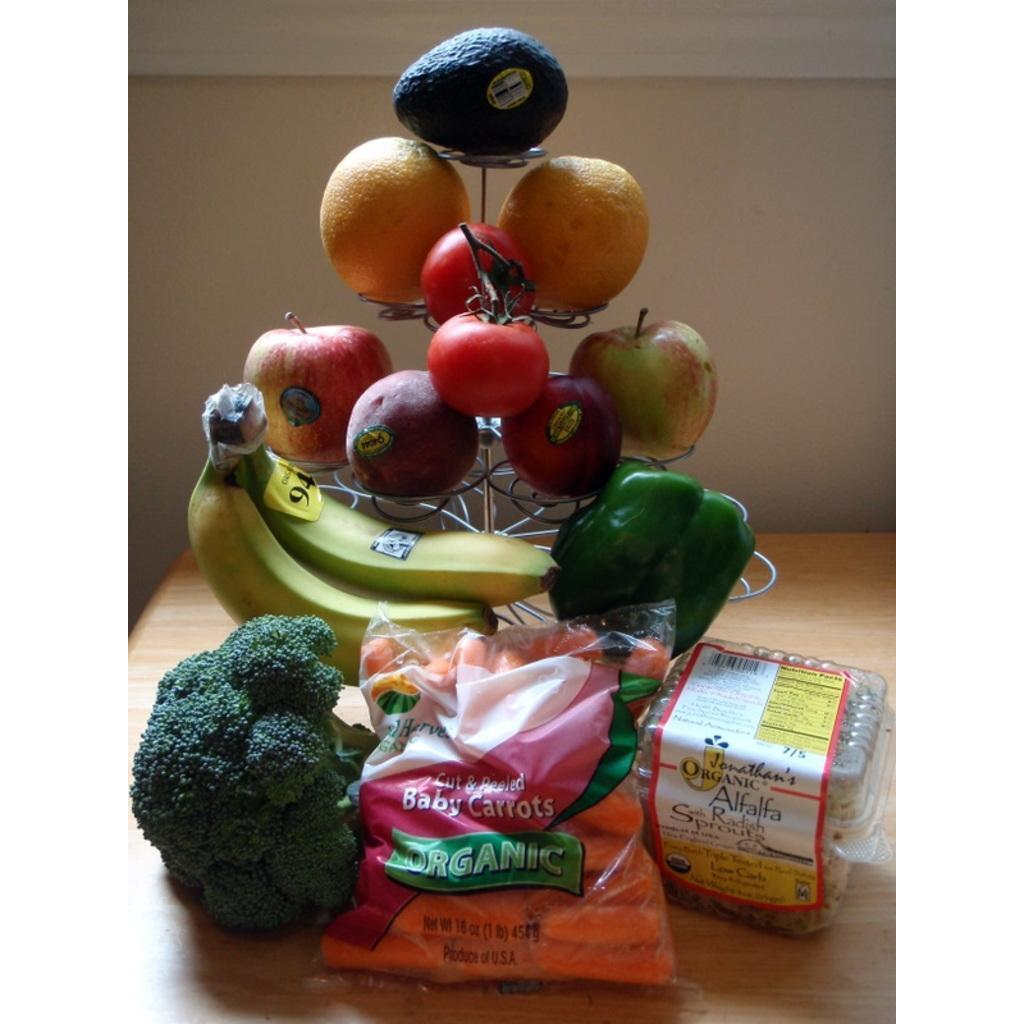banana: (188, 464, 480, 632)
